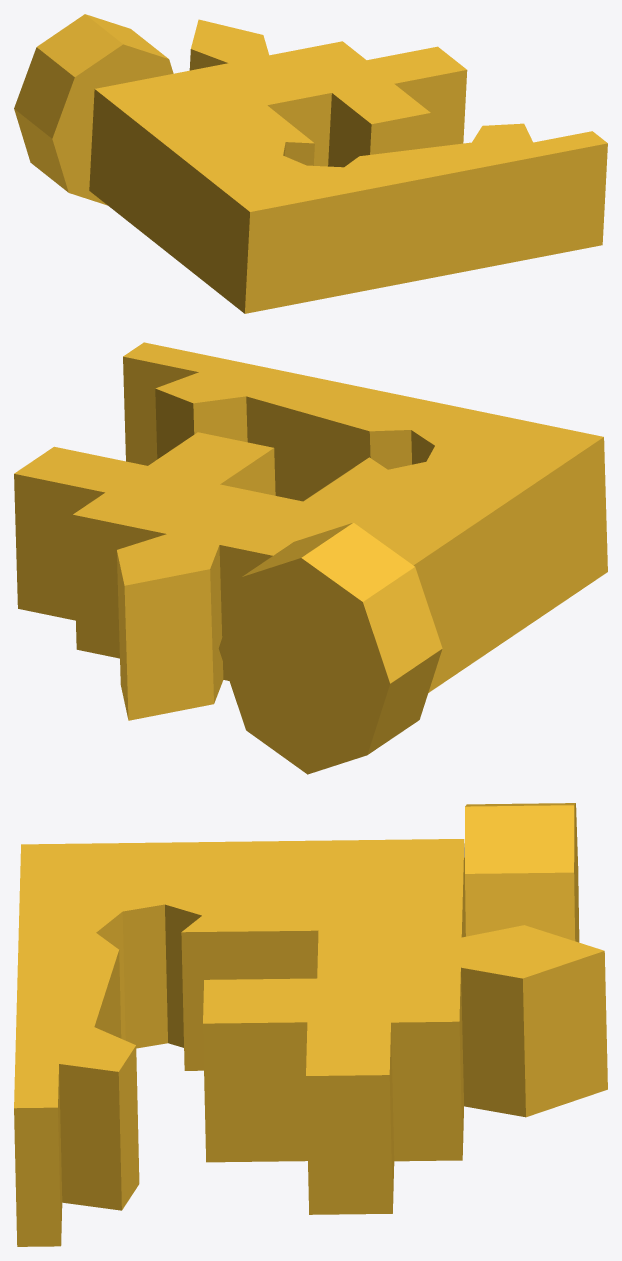
File: Asset_KeyFragment4.fbx
3 views of the same model, one above another, from view 1: azimuth 30°, elevation 25°; view 2: azimuth 150°, elevation 25°; view 3: azimuth 270°, elevation 25° (orthographic). The views are drawn at different scales.
Visible parts, largest first — view 1: Asset_KeyFragment4; view 2: Asset_KeyFragment4; view 3: Asset_KeyFragment4.
Boxes of the visible parts, x1,y1,x2,y2 form: Asset_KeyFragment4: (14, 14, 607, 313); Asset_KeyFragment4: (14, 342, 607, 774); Asset_KeyFragment4: (14, 803, 607, 1246).
Size of the model in its own units: 24.53 by 9.83 by 23.08.
